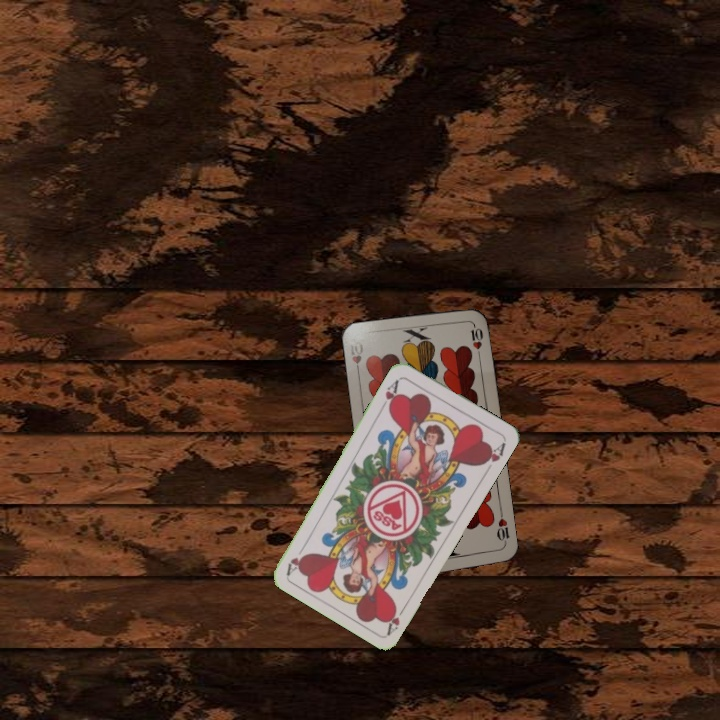H10: (345, 337, 366, 378), (493, 508, 512, 549)
HA: (382, 599, 410, 637), (377, 375, 403, 413)
